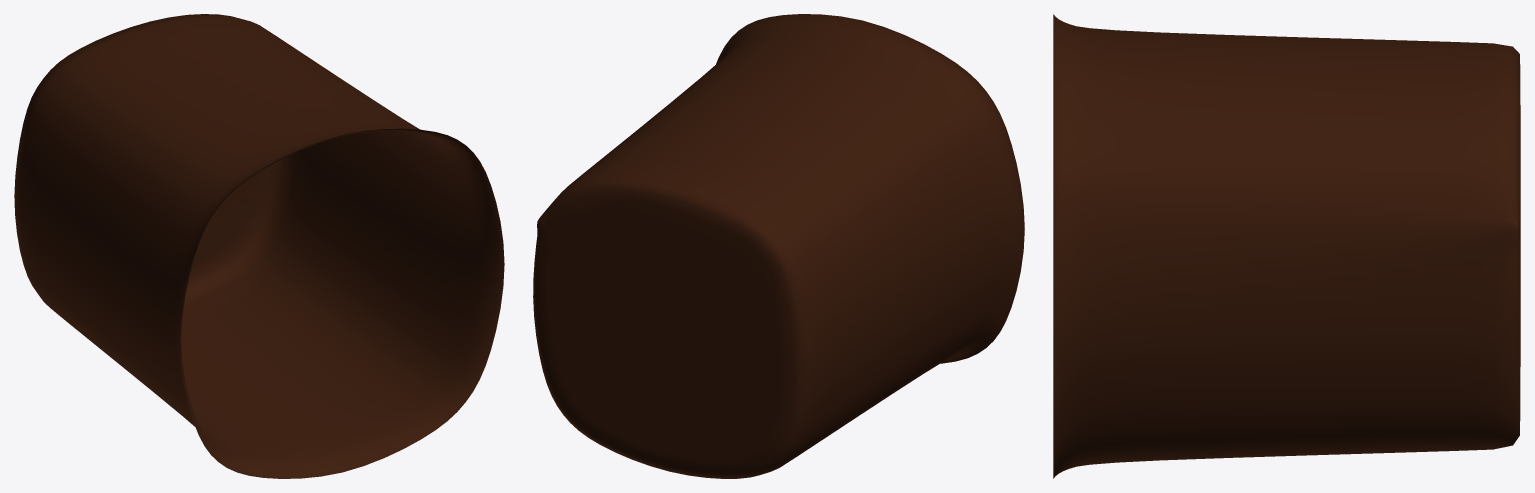
The picture shows the model from 3 angles, left to right: view 1: azimuth 30°, elevation 25°; view 2: azimuth 150°, elevation 25°; view 3: azimuth 270°, elevation 25°; orthographic projection. The views are drawn at different scales.
Size of the model in its own units: 0.4669 by 0.464 by 0.4876.
